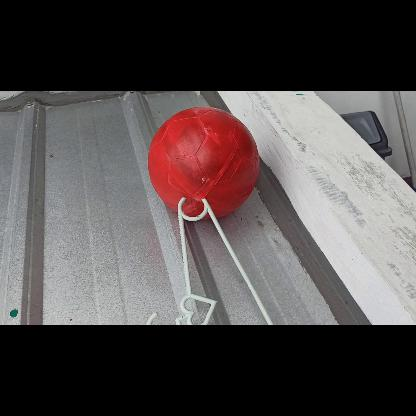red_ball: (146, 107, 260, 221)
